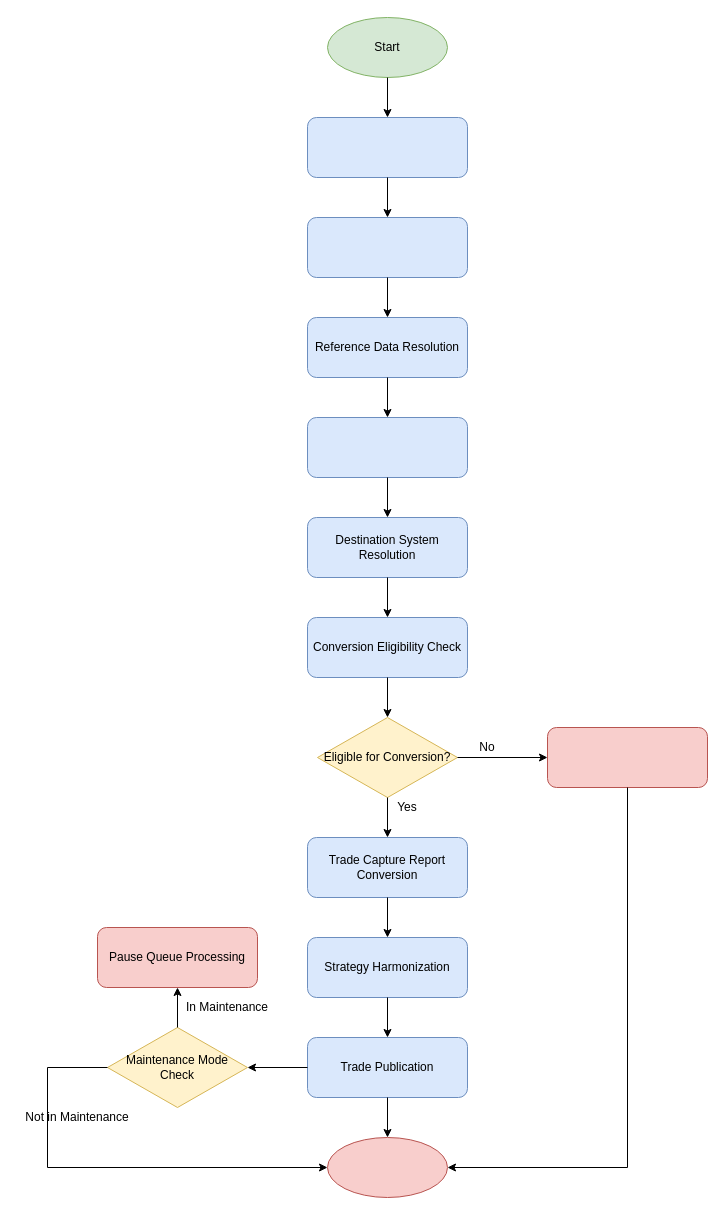
Some shapes in this 725 by 1215 pixel diagram are drawn without their labels. The centre of each missing label's shape, as x and y in pixels:
"Audit & Cache as Excluded" belongs at pixel 627 757.
"End" belongs at pixel 387 1167.
"Message Extraction & Initial Processing" belongs at pixel 387 147.
"Trade Classification & Initial Validation" belongs at pixel 387 247.
"Trader Resolution" belongs at pixel 387 447.
